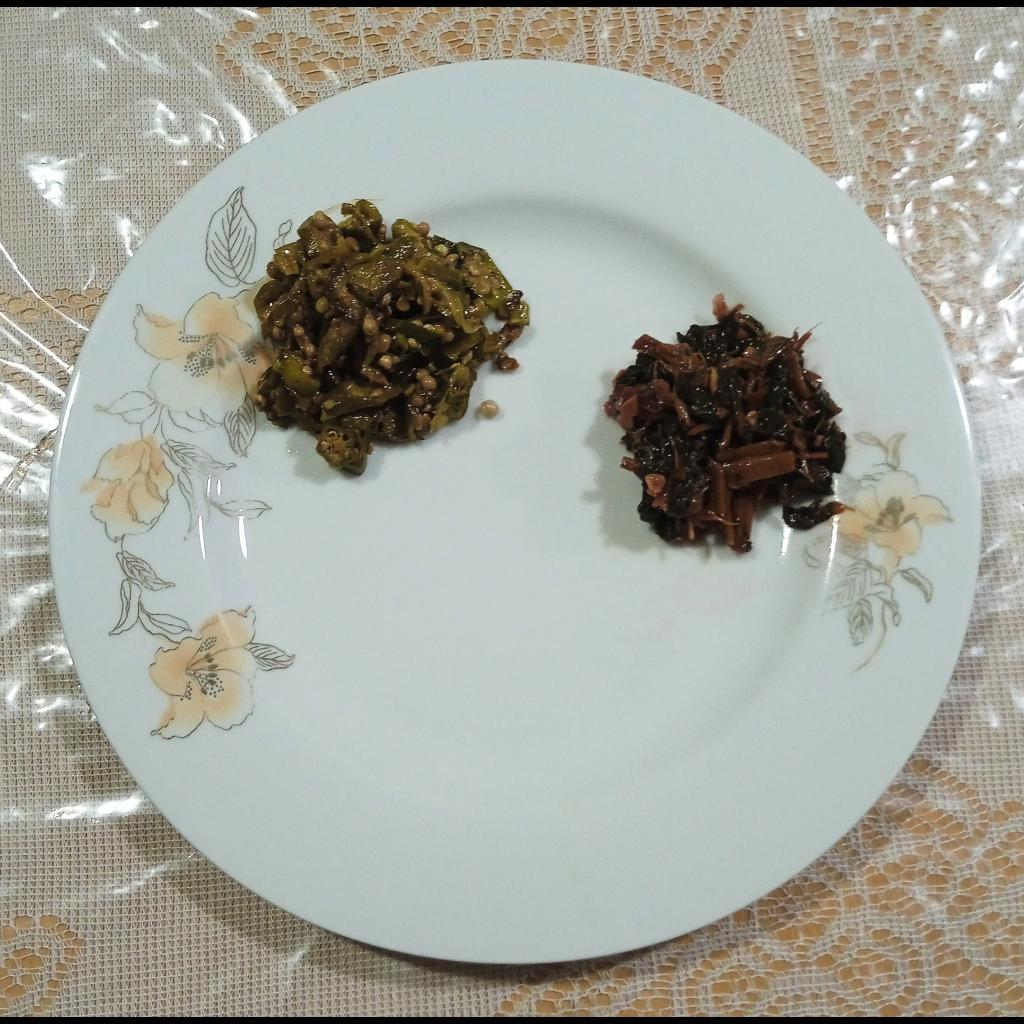okra: (253, 195, 532, 477)
shak: (599, 291, 848, 555)
